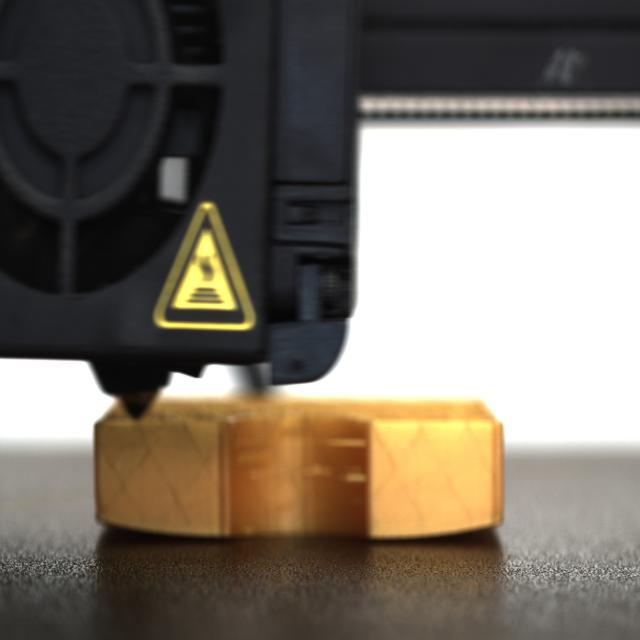Warping: (92, 508, 167, 544), (428, 511, 505, 545)
